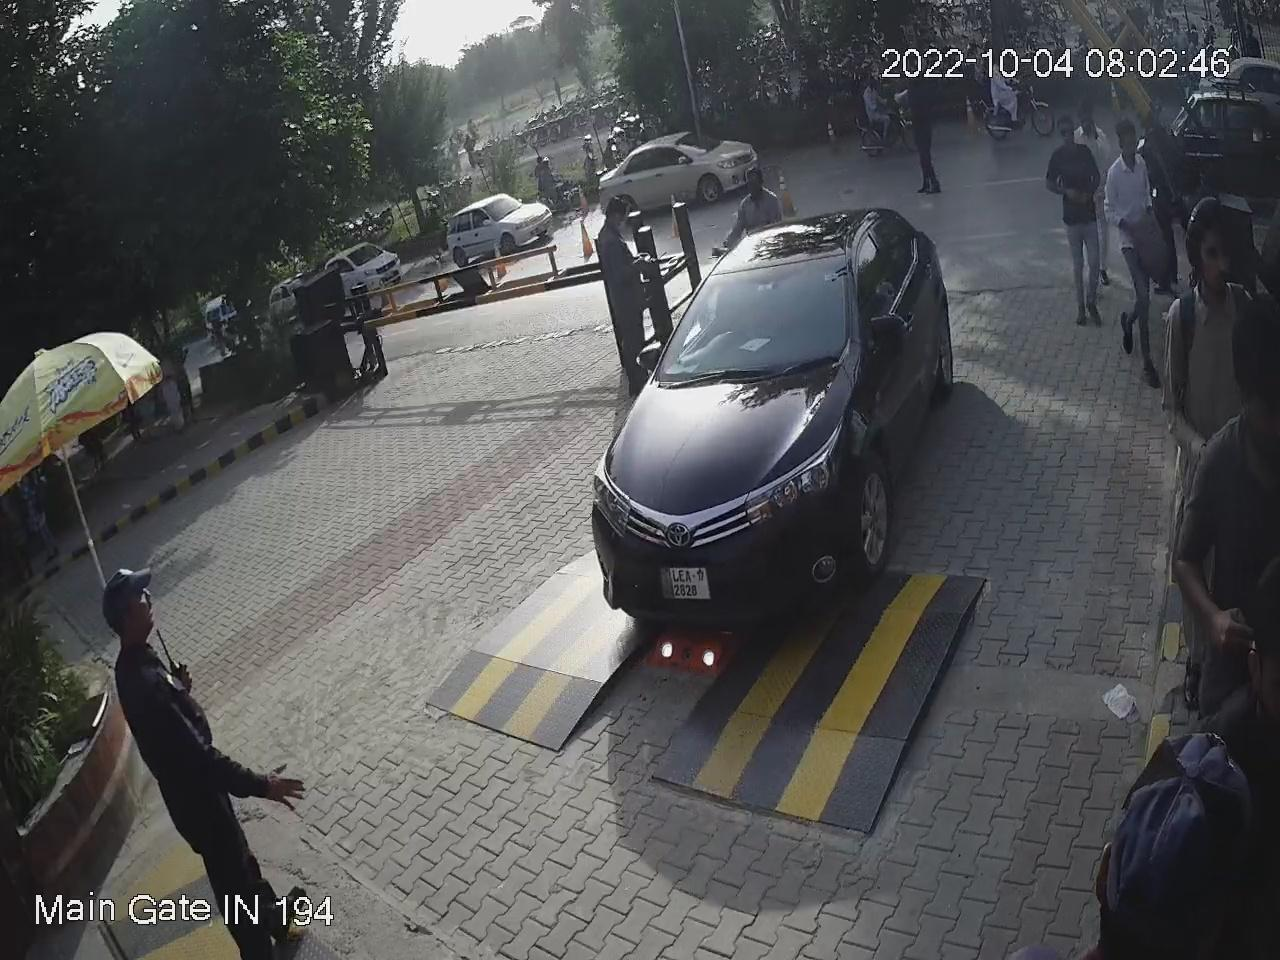windshield: (653, 233, 856, 380)
